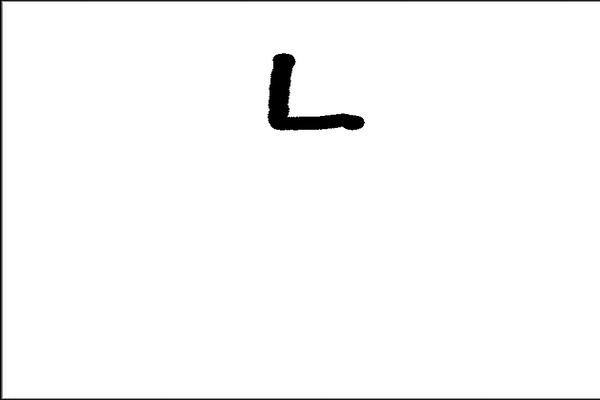L: (260, 46, 371, 138)
